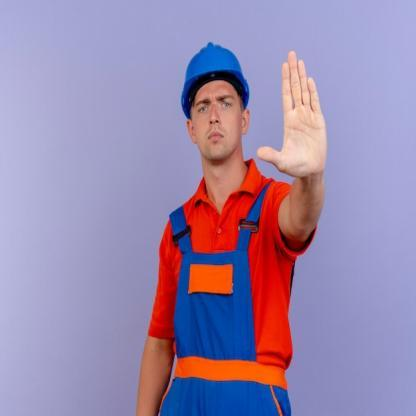stop: (258, 48, 336, 188)
